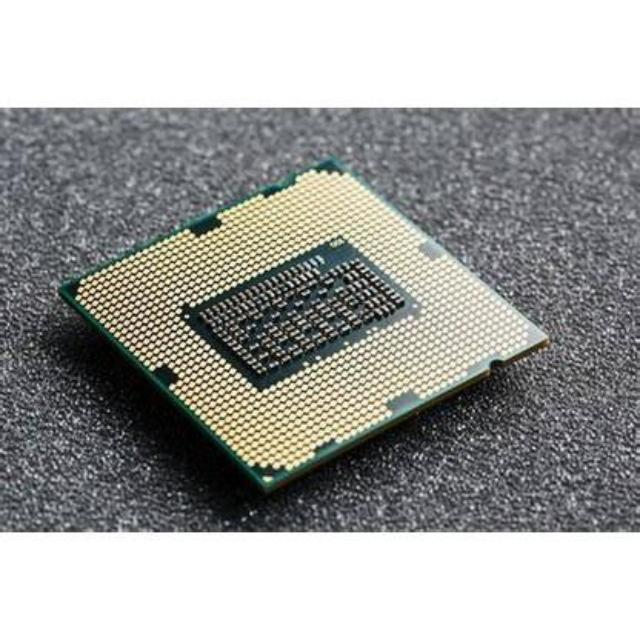CPU: (64, 156, 552, 490)
